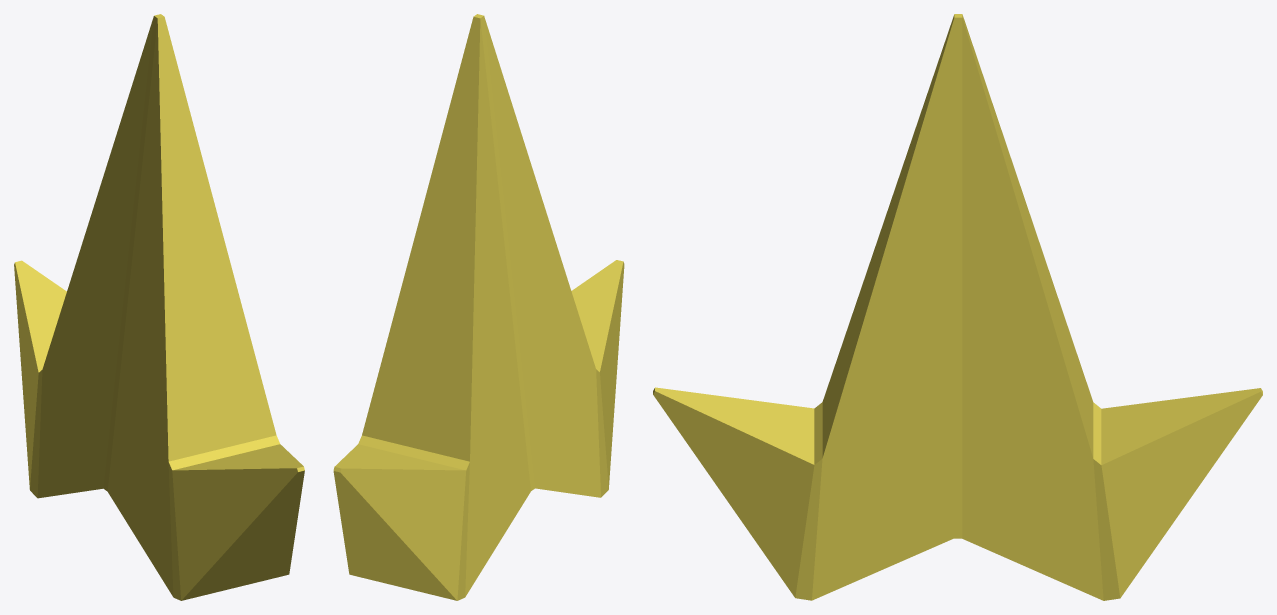
File: Starfragment1.fbx
3 renders of one model, left to right at view 1: azimuth 30°, elevation 25°; view 2: azimuth 150°, elevation 25°; view 3: azimuth 270°, elevation 25°, orthographic. The views are drawn at different scales.
Visible parts, largest first — view 1: Cube.004; view 2: Cube.004; view 3: Cube.004.
Part boxes in pixels (x1=…): Cube.004: x1=14, y1=14, x2=304, y2=600; Cube.004: x1=333, y1=14, x2=624, y2=600; Cube.004: x1=653, y1=14, x2=1262, y2=600.
Size of the model in its own units: 42.51 by 195 by 194.
